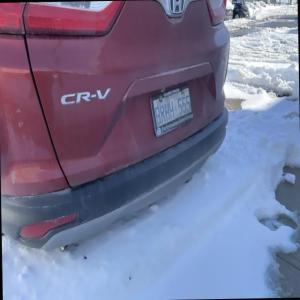Plate: (149, 83, 194, 138)
